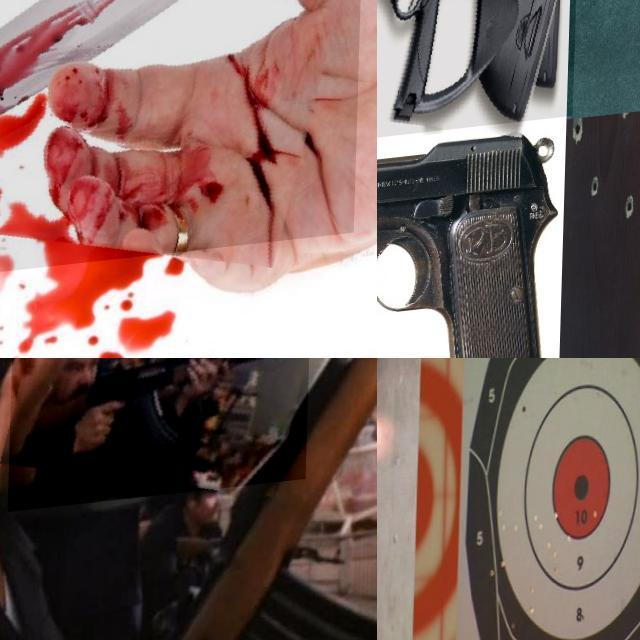-: (0, 0, 368, 293)
gun-knife-thesis - v11 Yolov5 augmented: (9, 358, 313, 516), (377, 129, 561, 358), (377, 0, 582, 158), (377, 404, 414, 516)
